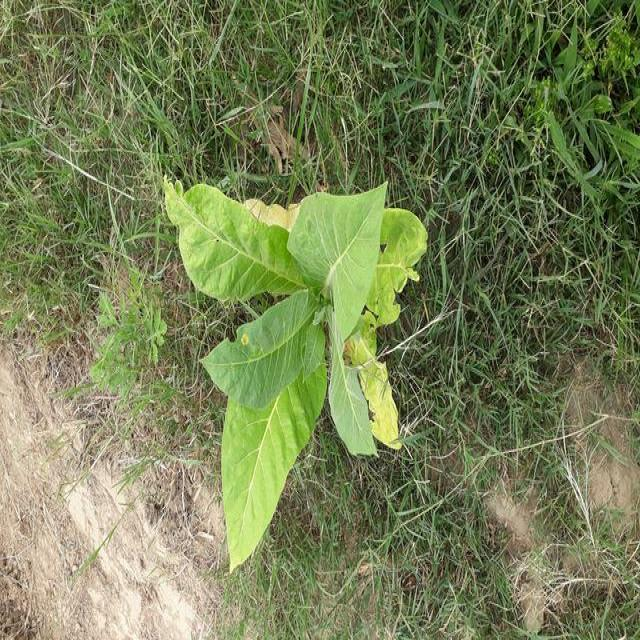crop: (170, 182, 410, 559)
